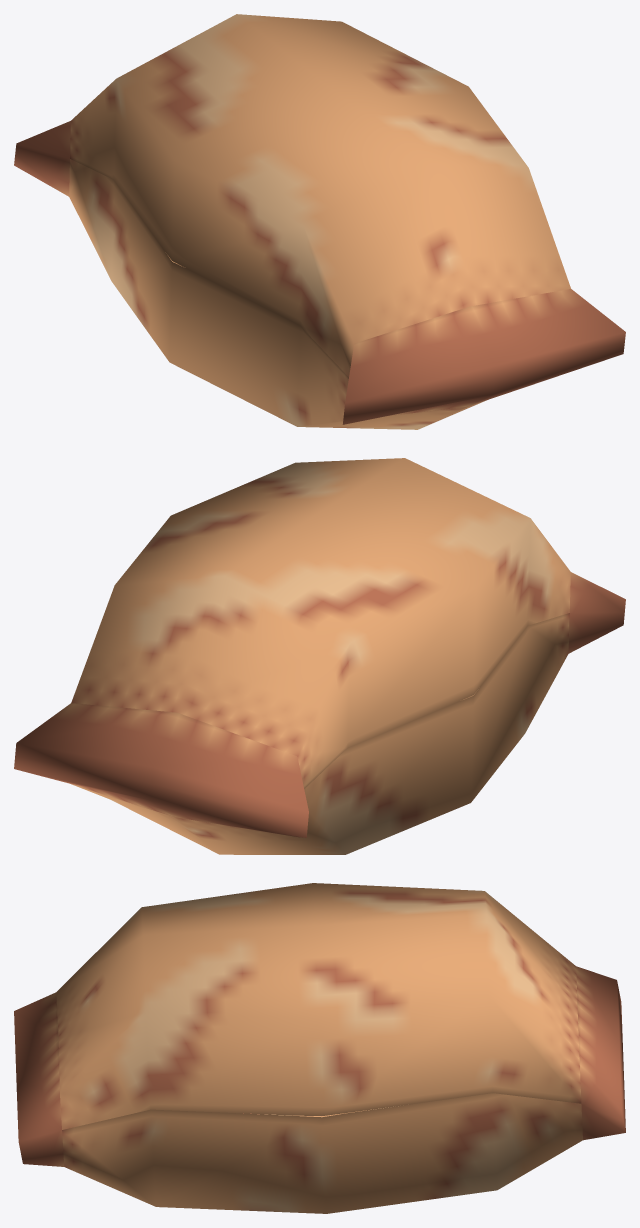
Rendered from Saco.fbx.
The picture shows the model from 3 angles, top to bottom: view 1: azimuth 30°, elevation 25°; view 2: azimuth 150°, elevation 25°; view 3: azimuth 270°, elevation 25°; orthographic projection. The views are drawn at different scales.
Parts seen in each view (by area): view 1: Saco; view 2: Saco; view 3: Saco.
Part boxes in pixels (x1,y1,x2,y2): Saco: [14, 14, 625, 429]; Saco: [14, 458, 625, 854]; Saco: [14, 883, 625, 1213].
Size of the model in its own units: 65.34 by 124 by 60.78.
